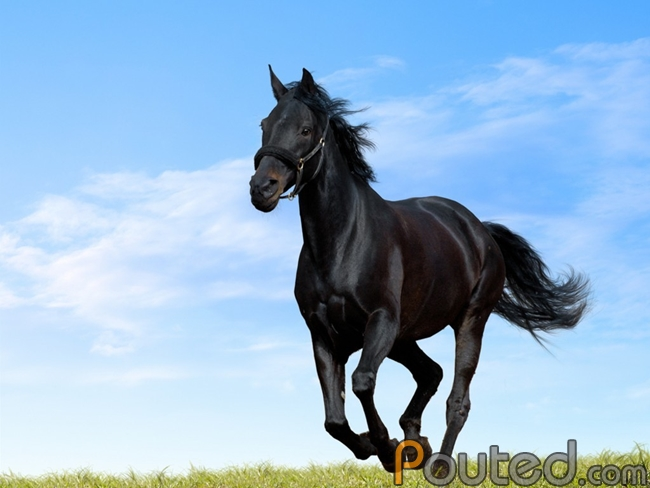horse: (244, 65, 587, 467)
